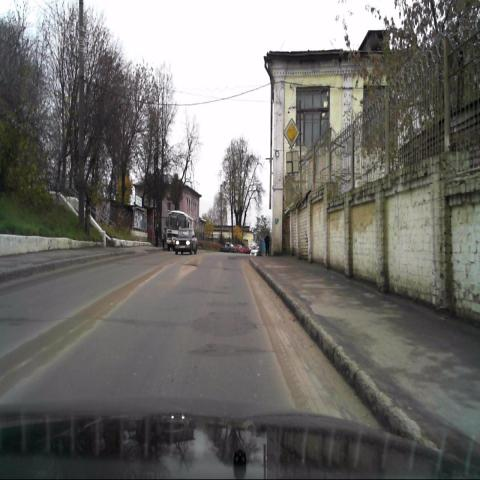8_13: (286, 150, 299, 173)
